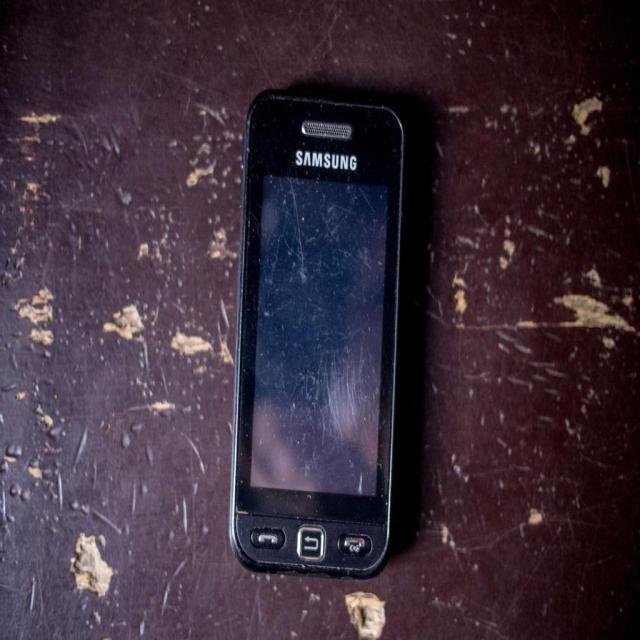Phone: (224, 88, 414, 578)
